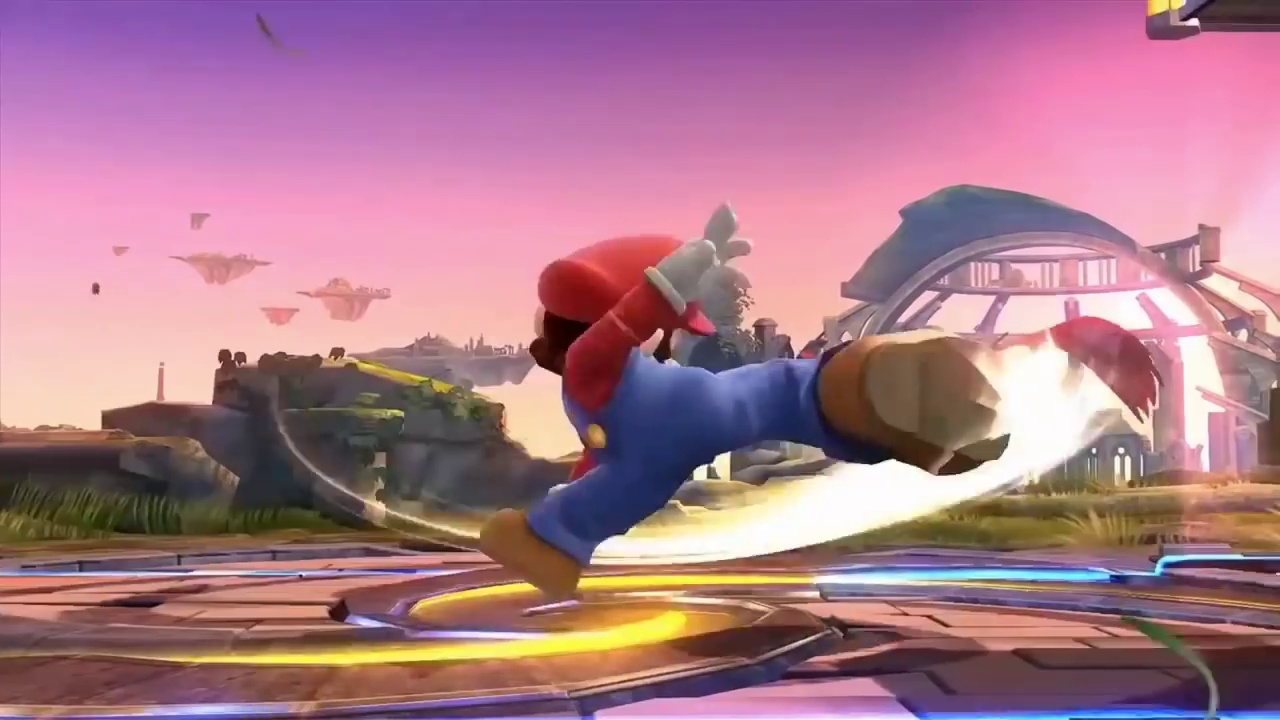Mario: (479, 204, 1001, 589)
